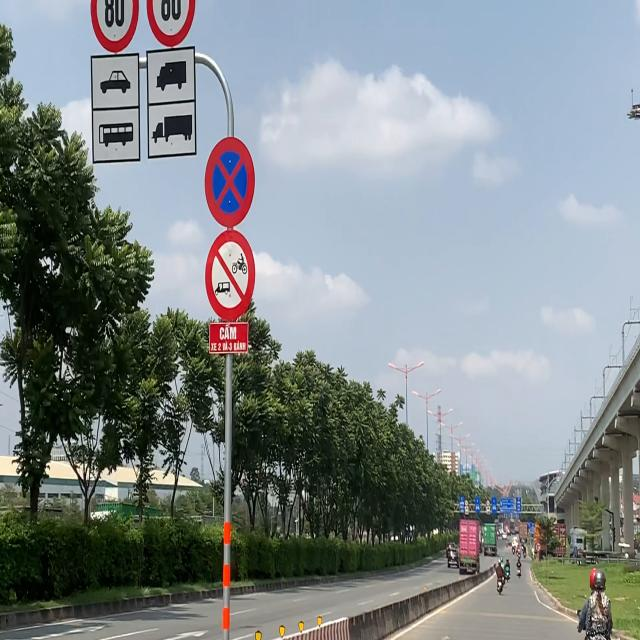Cam con lai: (205, 230, 255, 320)
Cam dung va do: (203, 132, 257, 229)
